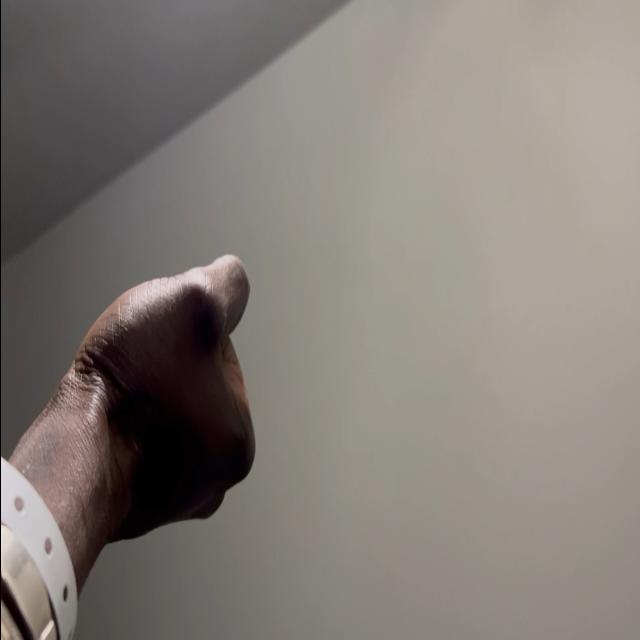Rock: (68, 252, 256, 542)
